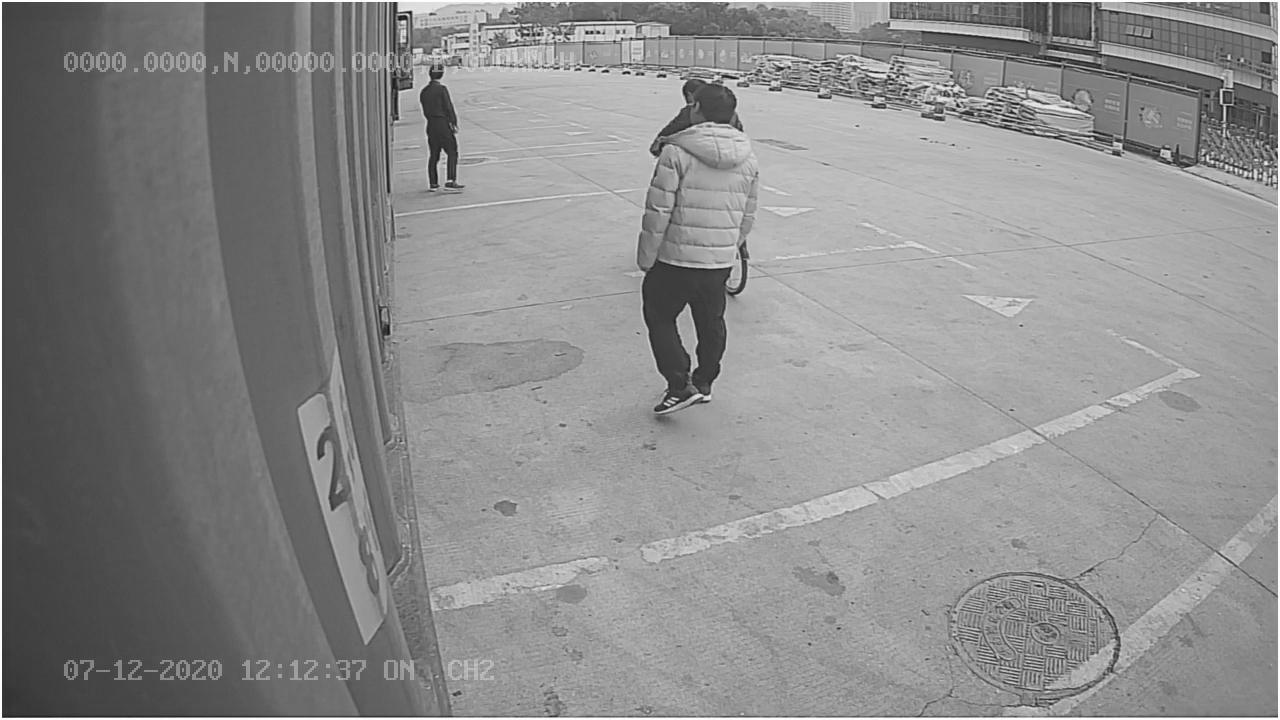person: (636, 83, 763, 414)
